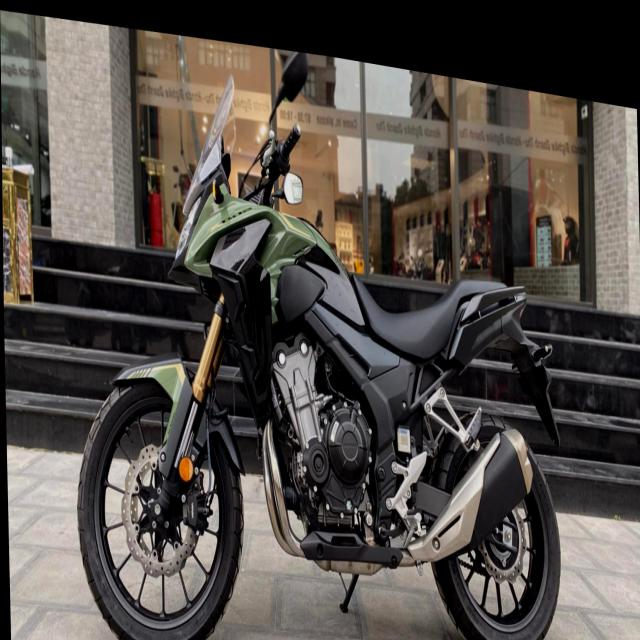CB500X: (65, 8, 565, 640)
